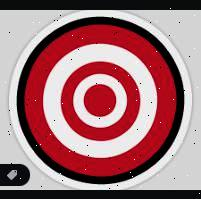target_red: (10, 13, 190, 186)
